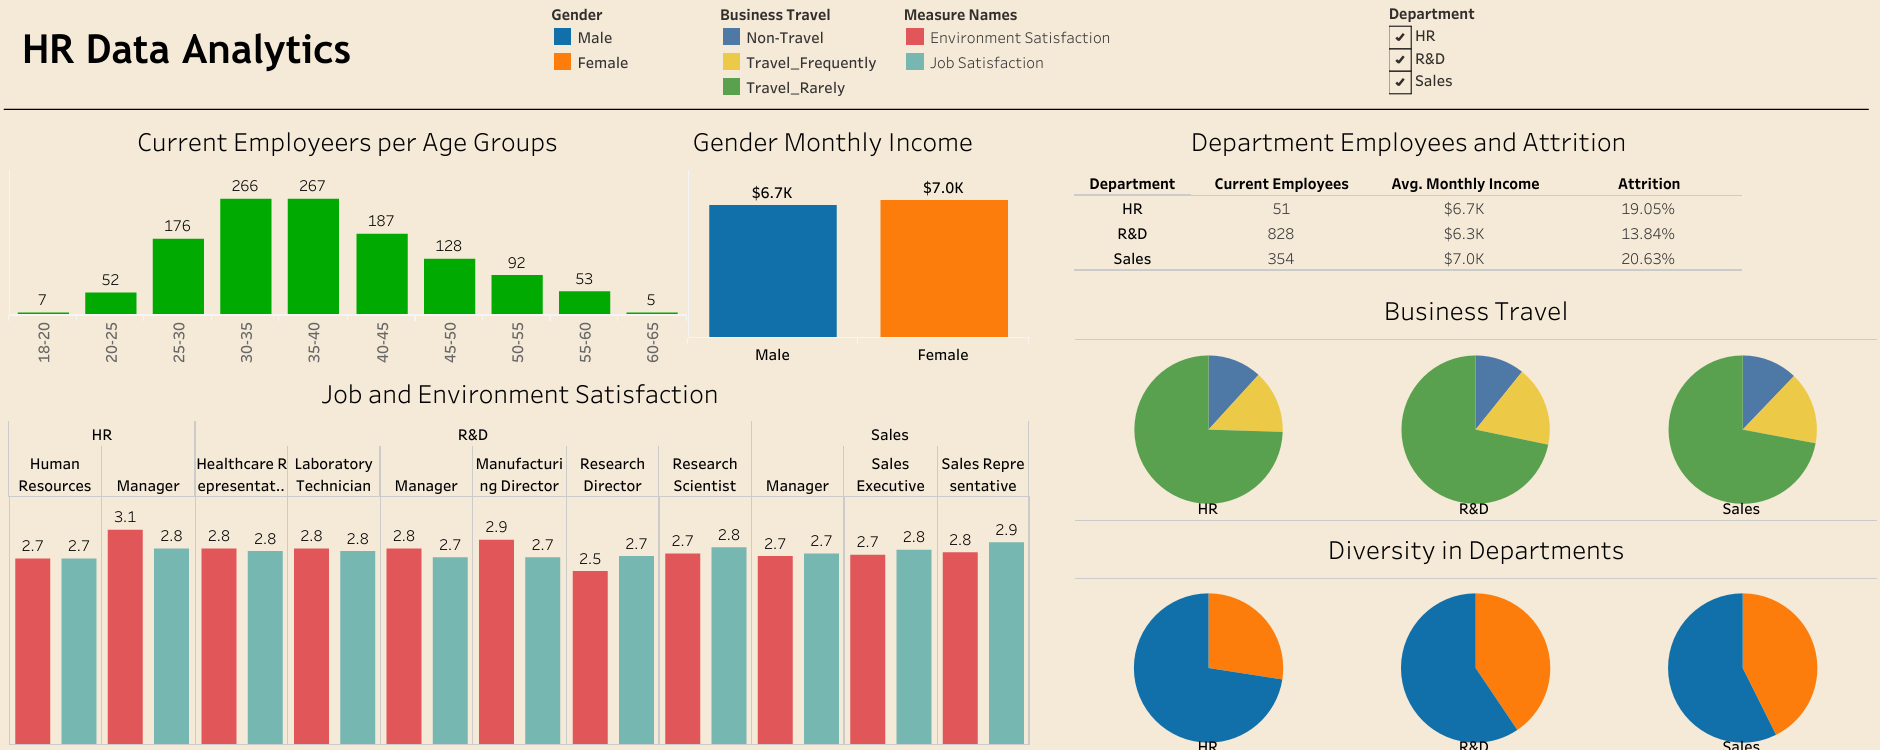

The dashboard page shown, as its layout file describes it:
{"tool":"tableau","page":{"name":"HR Data Analytics","canvas":[1000,1000],"units":"permille","ordinal":0},"visuals":[{"type":"legend","title":"Gender Monthly Income","param":"[federated.0jx7hms0s2gyxa1czszc617x4scq].[none:Gender:nk]","box":[292.5,0,83.8,114.7]},{"type":"legend","title":"Business Travel","param":"[federated.0jx7hms0s2gyxa1czszc617x4scq].[none:Business Travel:nk]","box":[382.3,0,95.2,139.8]},{"type":"legend","title":"Job and Environment Satisfaction","param":"[federated.0jx7hms0s2gyxa1czszc617x4scq].[:Measure Names]","box":[479.8,0,125.7,105.7]},{"type":"filter","title":"Diversity in Departments","param":"[federated.0jx7hms0s2gyxa1czszc617x4scq].[none:Department:nk]","box":[738,0,96.7,141.6]},{"type":"text","box":[9.9,16.1,239.9,95]},{"type":"blank","box":[2.3,145.2,990.9,1.8]},{"type":"worksheet","title":"Current Employeers per Age Groups","mark":"Automatic","rows":["HR Data.csv_1031D004C3B84C48A6B132865688AD84"],"cols":["Age (bin)"],"box":[4.6,154.1,360.2,331.5]},{"type":"worksheet","title":"Gender Monthly Income","mark":"Automatic","rows":["Monthly Income"],"cols":["Gender"],"box":[365.6,154.1,181.3,331.5]},{"type":"worksheet","title":"Department Employees and Attrition","mark":"Automatic","rows":["Department"],"box":[571.2,154.1,426.5,227.6]},{"type":"worksheet","title":"Business Travel","mark":"Pie","cols":["Department"],"box":[571.2,379.9,426.5,313.6]},{"type":"worksheet","title":"Job and Environment Satisfaction","mark":"Automatic","cols":["Department","Job Role"],"box":[4.8,488.8,543.1,505.3]}]}

Visuals, with their boxes on the dashboard's canvas, which has no fixed pixel size, in thousandths of its width and height (x1, y1, x2, y2). These are canvas units, not pixel positions in the 1880x750 screenshot, which may show the page scaled, cropped or inside an application window:
"Gender Monthly Income" legend: bbox(292, 0, 376, 115)
"Business Travel" legend: bbox(382, 0, 478, 140)
"Job and Environment Satisfaction" legend: bbox(480, 0, 606, 106)
"Diversity in Departments" filter: bbox(738, 0, 835, 142)
text: bbox(10, 16, 250, 111)
blank: bbox(2, 145, 993, 147)
"Current Employeers per Age Groups" worksheet: bbox(5, 154, 365, 486)
"Gender Monthly Income" worksheet: bbox(366, 154, 547, 486)
"Department Employees and Attrition" worksheet: bbox(571, 154, 998, 382)
"Business Travel" worksheet (Pie marks): bbox(571, 380, 998, 694)
"Job and Environment Satisfaction" worksheet: bbox(5, 489, 548, 994)
